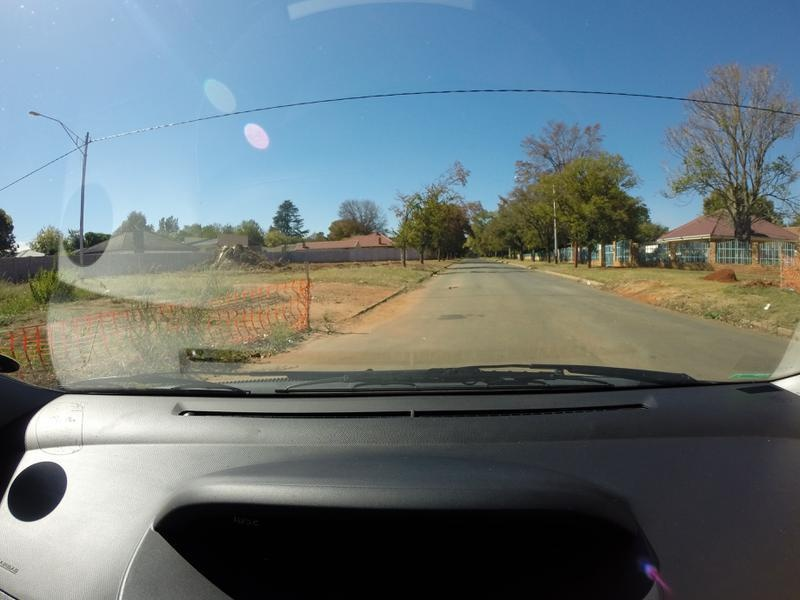pothole: (444, 279, 466, 301)
